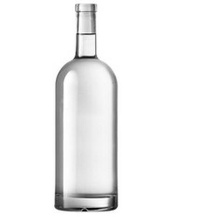bottle: (53, 0, 123, 217)
